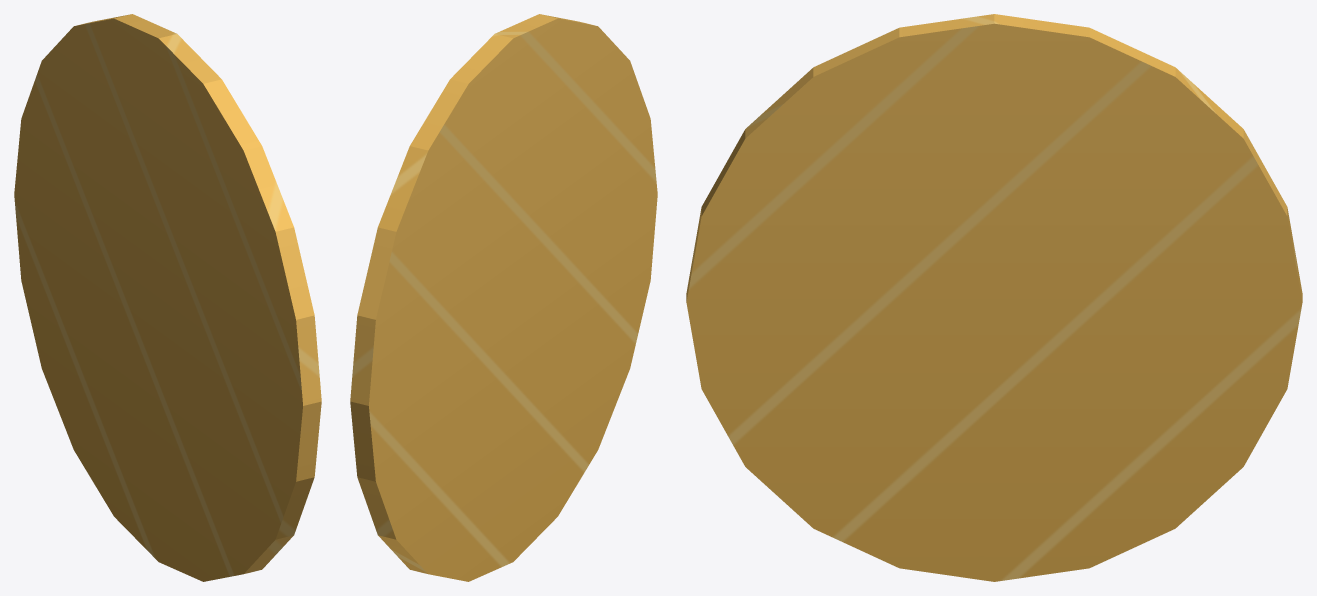
The model's file is SM_HH_V2_Glass_Loft.fbx.
The picture shows the model from 3 angles, left to right: view 1: azimuth 30°, elevation 25°; view 2: azimuth 150°, elevation 25°; view 3: azimuth 270°, elevation 25°; orthographic projection. The views are drawn at different scales.
Parts seen in each view (by area): view 1: HH_V2_Glass_Loft; view 2: HH_V2_Glass_Loft; view 3: HH_V2_Glass_Loft.
Boxes of the visible parts, left/top/right/bottom form: HH_V2_Glass_Loft: left=14, top=14, right=321, bottom=581; HH_V2_Glass_Loft: left=350, top=14, right=657, bottom=581; HH_V2_Glass_Loft: left=686, top=14, right=1302, bottom=581.
Size of the model in its own units: 0.94 by 0.035 by 0.94.
